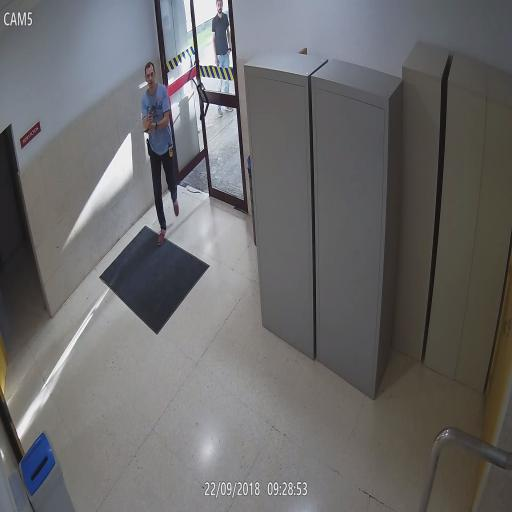Handgun: (146, 106, 158, 124)
